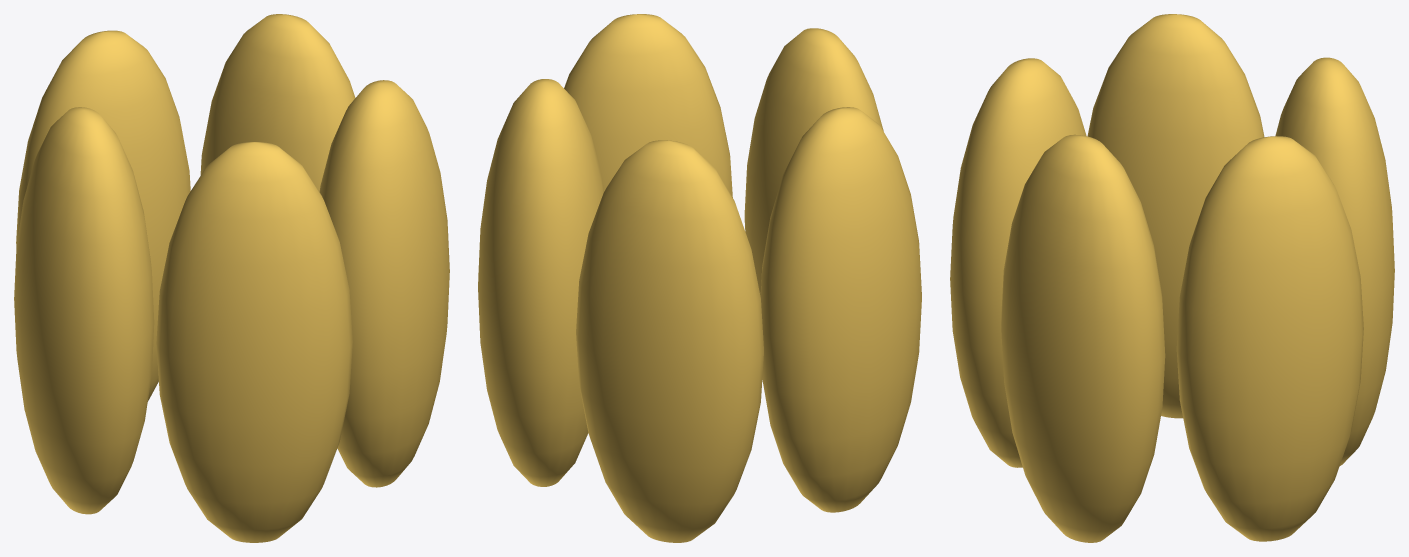
Rendered from crop_4_stage_0.fbx.
The picture shows the model from 3 angles, left to right: view 1: azimuth 30°, elevation 25°; view 2: azimuth 150°, elevation 25°; view 3: azimuth 270°, elevation 25°; orthographic projection.
Visible parts, largest first — view 1: crop_4_stage_0; view 2: crop_4_stage_0; view 3: crop_4_stage_0.
Boxes of the visible parts, left/top/right/bottom form: crop_4_stage_0: left=14, top=14, right=449, bottom=542; crop_4_stage_0: left=478, top=14, right=921, bottom=542; crop_4_stage_0: left=950, top=14, right=1394, bottom=542.
Bounding box in the file's own units: 0.035 × 0.035 × 0.035.
Materials: 1 (1 with a texture image).
